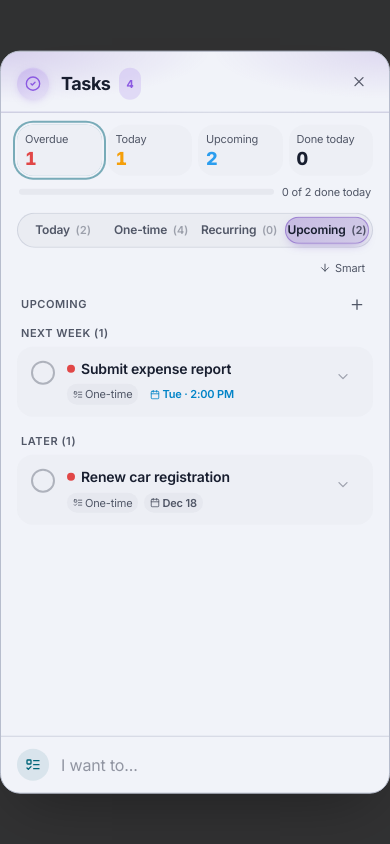
Test: TasksPopup — lands on the task you tapped › says when a task is due in words
Expected: the tab with test id "task-tab-upcoming" shows "(2)", x1=285 y1=216 x2=369 y2=244
Expected: the element with test id "task-due-soon" shows "· 2:00 PM", x1=162 y1=387 x2=234 y2=401
Step 1. Click the tab with test id "task-tab-today" → (63, 230), box x1=21 y1=216 x2=105 y2=244
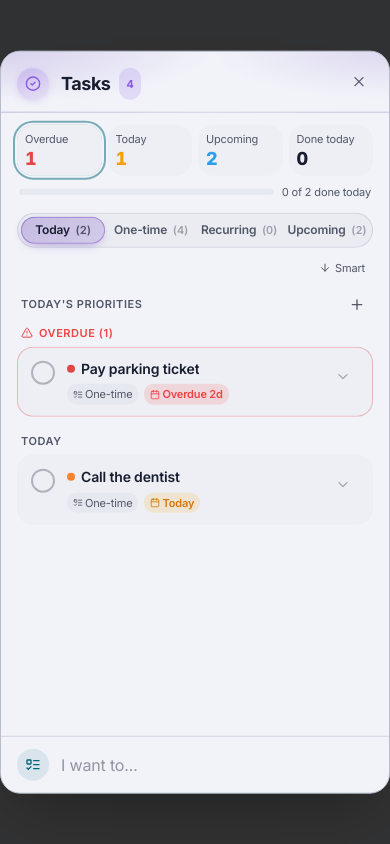
Result: the element with test id "task-due-late" reads "Overdue 2d" at x1=162 y1=387 x2=223 y2=401
Result: the element with test id "task-due-now" reads "Today" at x1=162 y1=495 x2=194 y2=509
